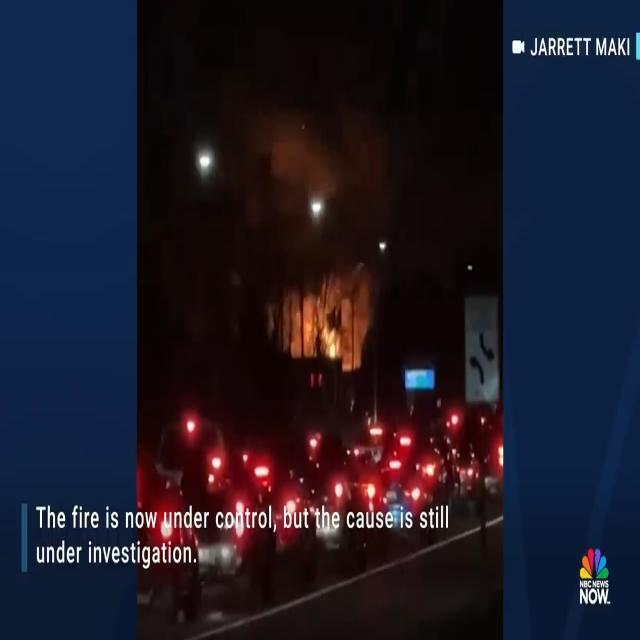fire: (293, 290, 356, 360)
